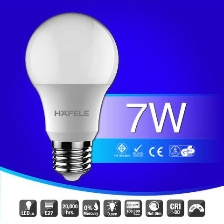light_bulb: (19, 7, 122, 186)
